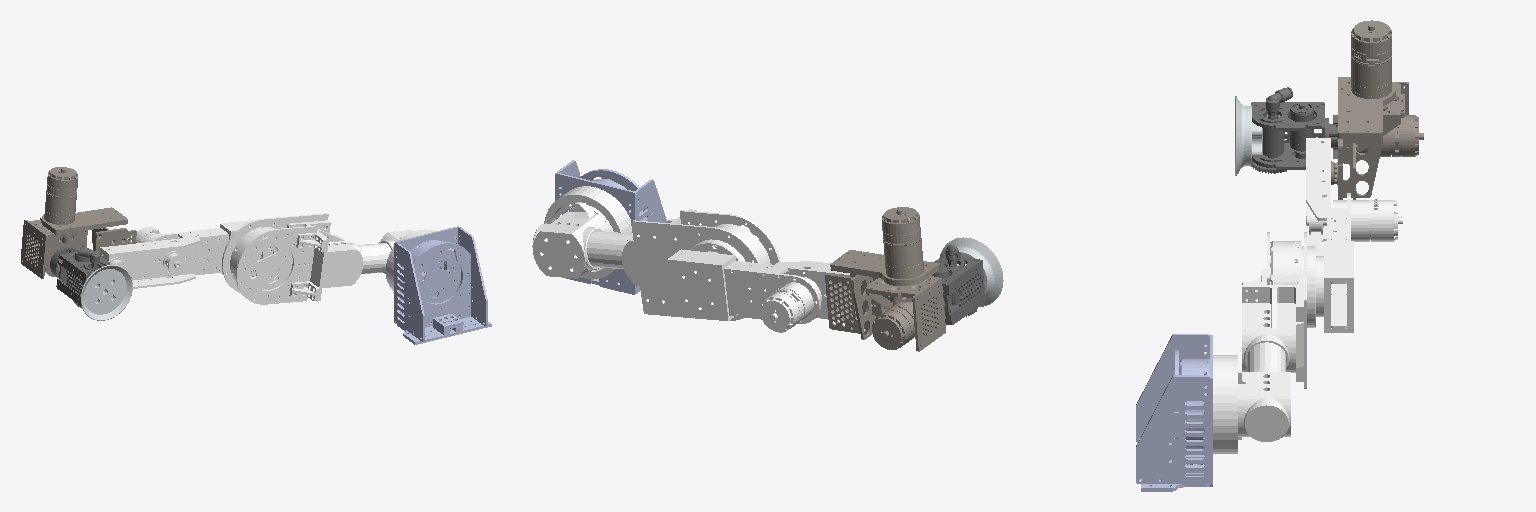
The robot description file, URDF, robot "manipulator":
<robot
  name="manipulator">
  <link
    name="base_link">
    <inertial>
      <origin
        xyz="-0.017787976373968 0.0443107779139824 -0.0128974954214708"
        rpy="0 0 0" />
      <mass
        value="0.209279461565938" />
      <inertia
        ixx="0.000196014524958516"
        ixy="8.16655912518317E-07"
        ixz="-1.73540166612178E-08"
        iyy="0.000165136089345537"
        iyz="8.45289390879161E-06"
        izz="0.000274444765351804" />
    </inertial>
    <visual>
      <origin
        xyz="0 0 0"
        rpy="0 0 0" />
      <geometry>
        <mesh
          filename="package://engineer_urdf/meshes/base_link.STL" />
      </geometry>
      <material
        name="">
        <color
          rgba="0.792156862745098 0.819607843137255 0.933333333333333 1" />
      </material>
    </visual>
    <collision>
      <origin
        xyz="0 0 0"
        rpy="0 0 0" />
      <geometry>
        <mesh
          filename="package://engineer_urdf/meshes/base_link.STL" />
      </geometry>
    </collision>
  </link>
  <link
    name="Link0">
    <inertial>
      <origin
        xyz="-0.0751569100196045 0.044113031630484 0.0452885186450797"
        rpy="0 0 0" />
      <mass
        value="0.551282359612385" />
      <inertia
        ixx="0.000491906058040442"
        ixy="8.80645610972103E-06"
        ixz="7.94309080530996E-05"
        iyy="0.000793490735050481"
        iyz="-5.28331683218349E-06"
        izz="0.000576383059309816" />
    </inertial>
    <visual>
      <origin
        xyz="0 0 0"
        rpy="0 0 0" />
      <geometry>
        <mesh
          filename="package://engineer_urdf/meshes/Link0.STL" />
      </geometry>
      <material
        name="">
        <color
          rgba="1 1 1 1" />
      </material>
    </visual>
    <collision>
      <origin
        xyz="0 0 0"
        rpy="0 0 0" />
      <geometry>
        <mesh
          filename="package://engineer_urdf/meshes/Link0.STL" />
      </geometry>
    </collision>
  </link>
  <joint
    name="joint0"
    type="continuous">
    <origin
      xyz="-0.017727020609442 0.0485 0.0695974632785313"
      rpy="0 -0.392699081698723 0" />
    <parent
      link="base_link" />
    <child
      link="Link0" />
    <axis
      xyz="0 1 0" />
  </joint>
  <link
    name="Link1">
    <inertial>
      <origin
        xyz="-0.0824106999384477 0.0324381985883856 -2.42882996568938E-05"
        rpy="0 0 0" />
      <mass
        value="0.332149520472401" />
      <inertia
        ixx="9.2865362874814E-05"
        ixy="-2.30758846522502E-05"
        ixz="-6.69749758009204E-08"
        iyy="0.000748568354100676"
        iyz="-6.61471160323011E-08"
        izz="0.00068299454631087" />
    </inertial>
    <visual>
      <origin
        xyz="0 0 0"
        rpy="0 0 0" />
      <geometry>
        <mesh
          filename="package://engineer_urdf/meshes/Link1.STL" />
      </geometry>
      <material
        name="">
        <color
          rgba="1 1 1 1" />
      </material>
    </visual>
    <collision>
      <origin
        xyz="0 0 0"
        rpy="0 0 0" />
      <geometry>
        <mesh
          filename="package://engineer_urdf/meshes/Link1.STL" />
      </geometry>
    </collision>
  </link>
  <joint
    name="joint1"
    type="continuous">
    <origin
      xyz="-0.183984297489125 0.083749999999997 0.111241980733148"
      rpy="0 0.518450275730061 0" />
    <parent
      link="Link0" />
    <child
      link="Link1" />
    <axis
      xyz="0 -1 0" />
  </joint>
  <link
    name="Link2">
    <inertial>
      <origin
        xyz="-0.0283104708438174 0.0513777536140116 0.0577580843447334"
        rpy="0 0 0" />
      <mass
        value="0.21954928618029" />
      <inertia
        ixx="5.53678198966529E-05"
        ixy="2.78352585978575E-06"
        ixz="5.32698646256969E-06"
        iyy="0.000112498354299853"
        iyz="-6.65931075106591E-07"
        izz="0.000105344241750171" />
    </inertial>
    <visual>
      <origin
        xyz="0 0 0"
        rpy="0 0 0" />
      <geometry>
        <mesh
          filename="package://engineer_urdf/meshes/Link2.STL" />
      </geometry>
      <material
        name="">
        <color
          rgba="0.647058823529412 0.619607843137255 0.588235294117647 1" />
      </material>
    </visual>
    <collision>
      <origin
        xyz="0 0 0"
        rpy="0 0 0" />
      <geometry>
        <mesh
          filename="package://engineer_urdf/meshes/Link2.STL" />
      </geometry>
    </collision>
  </link>
  <joint
    name="joint2"
    type="continuous">
    <origin
      xyz="-0.215 0.002500000000003 0"
      rpy="0 -0.125751194031338 0" />
    <parent
      link="Link1" />
    <child
      link="Link2" />
    <axis
      xyz="0 1 0" />
  </joint>
  <link
    name="Link3">
    <inertial>
      <origin
        xyz="0.00378559793208469 0.0237402112131124 -0.00360561219602573"
        rpy="0 0 0" />
      <mass
        value="0.209859443941634" />
      <inertia
        ixx="5.0009276001751E-05"
        ixy="-4.68705458931348E-07"
        ixz="-3.69105635609669E-06"
        iyy="5.0523715907815E-05"
        iyz="3.40478561937904E-07"
        izz="4.6446244178936E-05" />
    </inertial>
    <visual>
      <origin
        xyz="0 0 0"
        rpy="0 0 0" />
      <geometry>
        <mesh
          filename="package://engineer_urdf/meshes/Link3.STL" />
      </geometry>
      <material
        name="">
        <color
          rgba="0.647058823529412 0.619607843137255 0.588235294117647 1" />
      </material>
    </visual>
    <collision>
      <origin
        xyz="0 0 0"
        rpy="0 0 0" />
      <geometry>
        <mesh
          filename="package://engineer_urdf/meshes/Link3.STL" />
      </geometry>
    </collision>
  </link>
  <joint
    name="joint3"
    type="continuous">
    <origin
      xyz="-0.0647595416180862 0.0637999999999999 0.00558585440332116"
      rpy="1.64579557895255 0.0422106648256705 1.05909687474392" />
    <parent
      link="Link2" />
    <child
      link="Link3" />
    <axis
      xyz="0 -1 0" />
  </joint>
  <link
    name="Link4">
    <inertial>
      <origin
        xyz="0.001629121949016 0.0538627069238658 0.00213945336592092"
        rpy="0 0 0" />
      <mass
        value="0.162942003404201" />
      <inertia
        ixx="4.2984175444735E-05"
        ixy="-5.09268568810167E-07"
        ixz="-1.33249921654981E-07"
        iyy="3.30749436885133E-05"
        iyz="-1.47478830890097E-06"
        izz="4.19184592654682E-05" />
    </inertial>
    <visual>
      <origin
        xyz="0 0 0"
        rpy="0 0 0" />
      <geometry>
        <mesh
          filename="package://engineer_urdf/meshes/Link4.STL" />
      </geometry>
      <material
        name="">
        <color
          rgba="0.498039215686275 0.498039215686275 0.498039215686275 1" />
      </material>
    </visual>
    <collision>
      <origin
        xyz="0 0 0"
        rpy="0 0 0" />
      <geometry>
        <mesh
          filename="package://engineer_urdf/meshes/Link4.STL" />
      </geometry>
    </collision>
  </link>
  <joint
    name="joint4"
    type="continuous">
    <origin
      xyz="-0.0190343427387756 0.00599999999993012 0.0107292262767865"
      rpy="2.62830934016653 0 -1.5707963267949" />
    <parent
      link="Link3" />
    <child
      link="Link4" />
    <axis
      xyz="0 1 0" />
  </joint>
  <link
    name="Link5">
    <inertial>
      <origin
        xyz="0.0174999985049131 -0.0101815825564855 -0.00749999783719324"
        rpy="0 0 0" />
      <mass
        value="0.0640114936302649" />
      <inertia
        ixx="1.22483931654081E-05"
        ixy="-6.12825390602393E-13"
        ixz="-1.17805533337144E-11"
        iyy="2.39789863212093E-05"
        iyz="1.73524696555076E-12"
        izz="1.39401607395806E-05" />
    </inertial>
    <visual>
      <origin
        xyz="0 -0.0115 0.0075"
        rpy="0 0 0" />
      <geometry>
        <mesh
          filename="package://engineer_urdf/meshes/Link5.STL" />
      </geometry>
      <material
        name="">
        <color
          rgba="0.898039215686275 0.917647058823529 0.929411764705882 1" />
      </material>
    </visual>
    <collision>
      <origin
        xyz="0 0 0"
        rpy="0 0 0" />
      <geometry>
        <mesh
          filename="package://engineer_urdf/meshes/Link5.STL" />
      </geometry>
    </collision>
  </link>
  <joint
    name="joint5"
    type="continuous">
    <origin
      xyz="-0.0175000000000675 0.077798690751585 -0.0000028796812896"
      rpy="3.14141812064131 0 0" />
    <parent
      link="Link4" />
    <child
      link="Link5" />
    <axis
      xyz="1 0 0" />
  </joint>
</robot>

--- What the picture shows (computed from the rendered views, not written in the file) ---
Views: 3 orthographic renders of the robot side by side, from view 1: azimuth 30°, elevation 25°; view 2: azimuth 150°, elevation 25°; view 3: azimuth 270°, elevation 25°.
Robot: manipulator — 7 links, 6 joints (6 continuous); root link base_link; default pose: every joint at zero.
Visible links, largest first — view 1: Link0, base_link, Link1, Link2, Link5, Link3, Link4; view 2: Link0, Link1, Link2, Link3, base_link, Link4, Link5; view 3: Link0, base_link, Link1, Link2, Link4, Link3, Link5.
Link boxes in pixels (x1,y1,x2,y2): Link0: (222, 213, 434, 304); base_link: (394, 226, 491, 344); Link1: (98, 219, 261, 288); Link2: (41, 167, 136, 252); Link5: (81, 265, 132, 320); Link3: (21, 218, 87, 278); Link4: (50, 246, 109, 307); Link0: (532, 186, 779, 320); Link1: (667, 239, 886, 332); Link2: (825, 207, 939, 339); Link3: (866, 276, 945, 351); base_link: (555, 160, 666, 294); Link4: (932, 245, 985, 324); Link5: (939, 237, 1003, 306); Link0: (1213, 232, 1306, 453); base_link: (1136, 334, 1212, 491); Link1: (1306, 138, 1402, 332); Link2: (1331, 20, 1395, 199); Link4: (1251, 87, 1348, 173); Link3: (1356, 82, 1423, 156); Link5: (1235, 96, 1262, 175).
Size in the robot's own frame: 0.5911 by 0.2918 by 0.2691 metres.
Meshes: 7 distinct files referenced, 7 mesh visuals loaded (7 binary STL).
